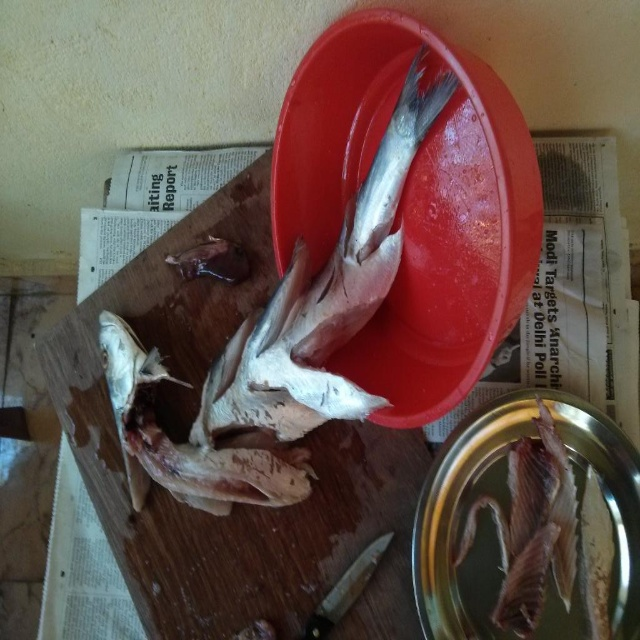Fish: (96, 43, 460, 507)
